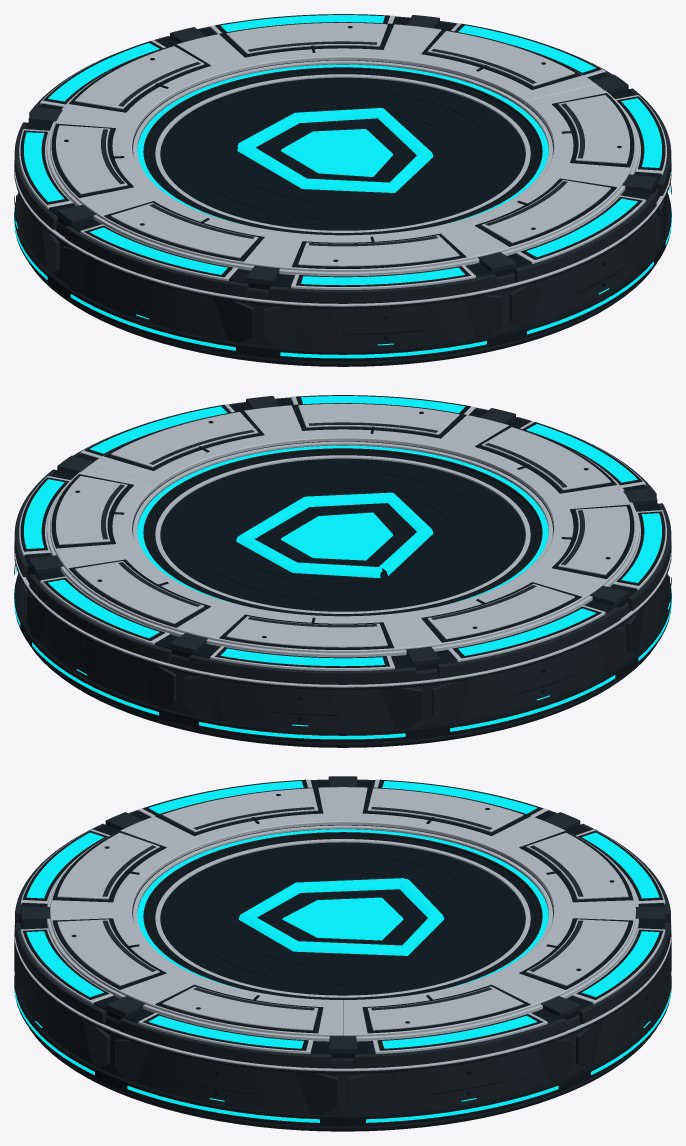
Rendered from Blocker.fbx.
The picture shows the model from 3 angles, top to bottom: view 1: azimuth 30°, elevation 25°; view 2: azimuth 150°, elevation 25°; view 3: azimuth 270°, elevation 25°; orthographic projection.
Visible parts, largest first — view 1: SM_Puck_Blocker; view 2: SM_Puck_Blocker; view 3: SM_Puck_Blocker.
Part boxes in pixels (x1,y1,x2,y2): SM_Puck_Blocker: [14, 14, 671, 366]; SM_Puck_Blocker: [14, 395, 671, 747]; SM_Puck_Blocker: [14, 776, 671, 1131].
Bounding box in the file's own units: 106 × 106 × 16.49.
